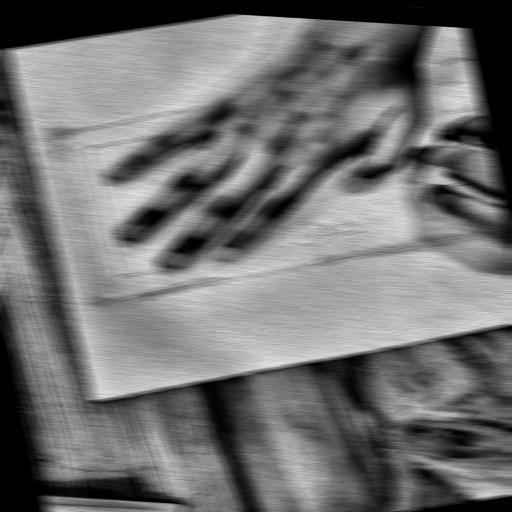door: (35, 50, 508, 312)
top_right: (85, 395, 102, 404)
